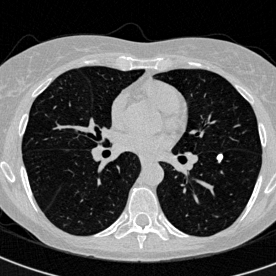nodule: (217, 154, 223, 160)
